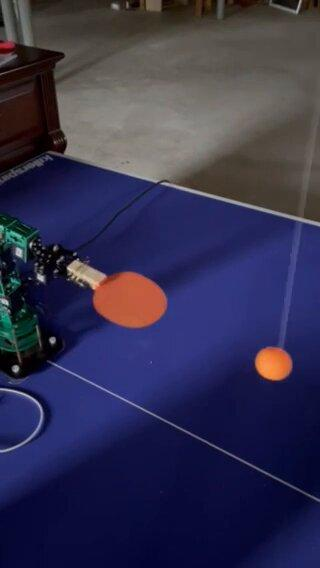oball: (255, 346, 289, 377)
